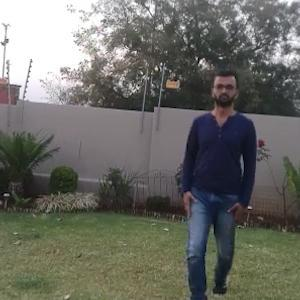follow: (182, 76, 250, 290)
